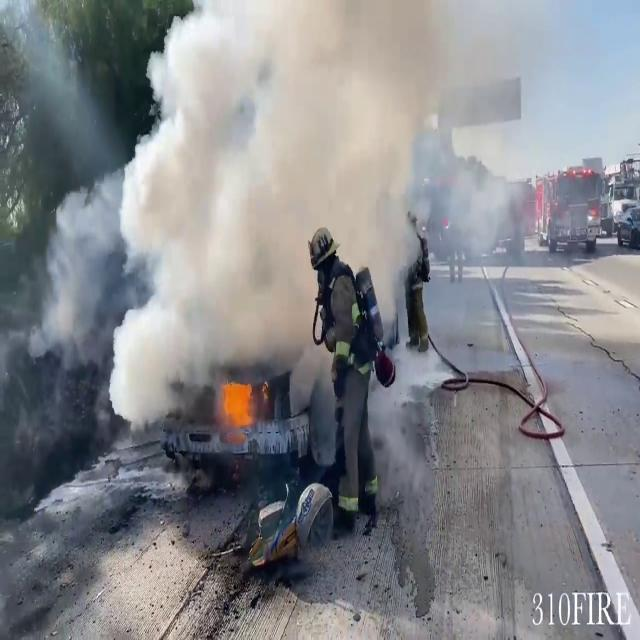Fire: (216, 365, 260, 438)
Smoke: (31, 0, 520, 398)
